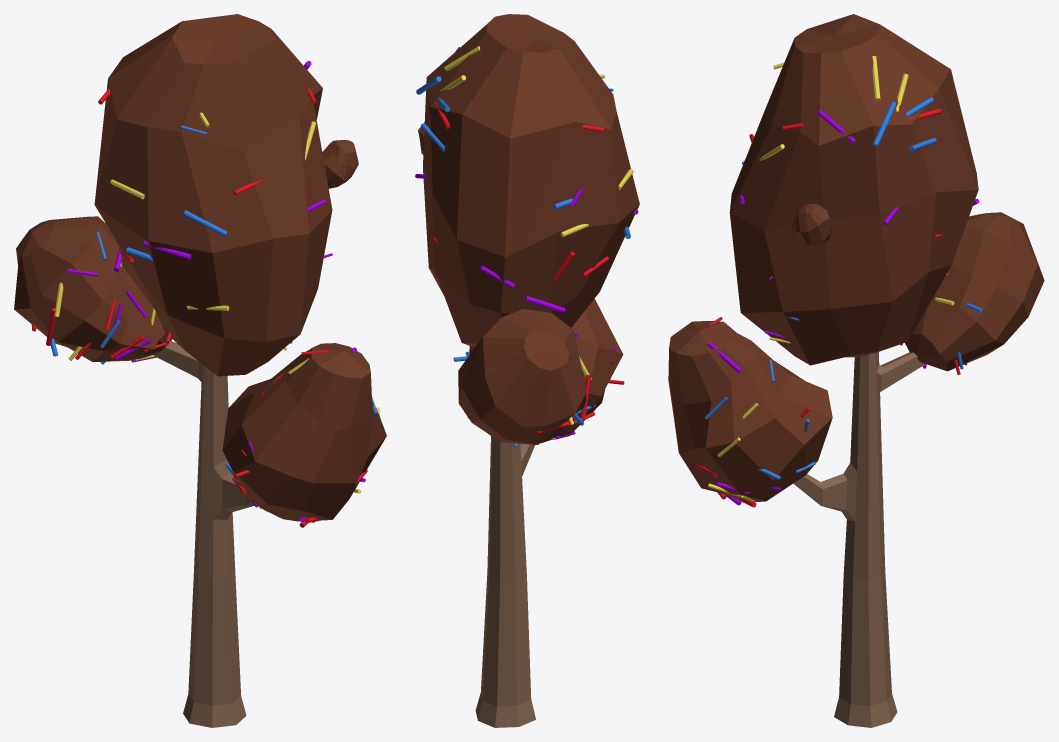
The model's file is Tree_stem_01.032.fbx.
3 renders of one model, left to right at view 1: azimuth 30°, elevation 25°; view 2: azimuth 150°, elevation 25°; view 3: azimuth 270°, elevation 25°, orthographic. The views are drawn at different scales.
Visible parts, largest first — view 1: Tree_stem_01.032; view 2: Tree_stem_01.032; view 3: Tree_stem_01.032.
Boxes of the visible parts, <box> form: Tree_stem_01.032: <box>14,14,386,727</box>; Tree_stem_01.032: <box>415,14,639,727</box>; Tree_stem_01.032: <box>668,14,1044,727</box>.
Bounding box in the file's own units: 156 × 415 × 208.
